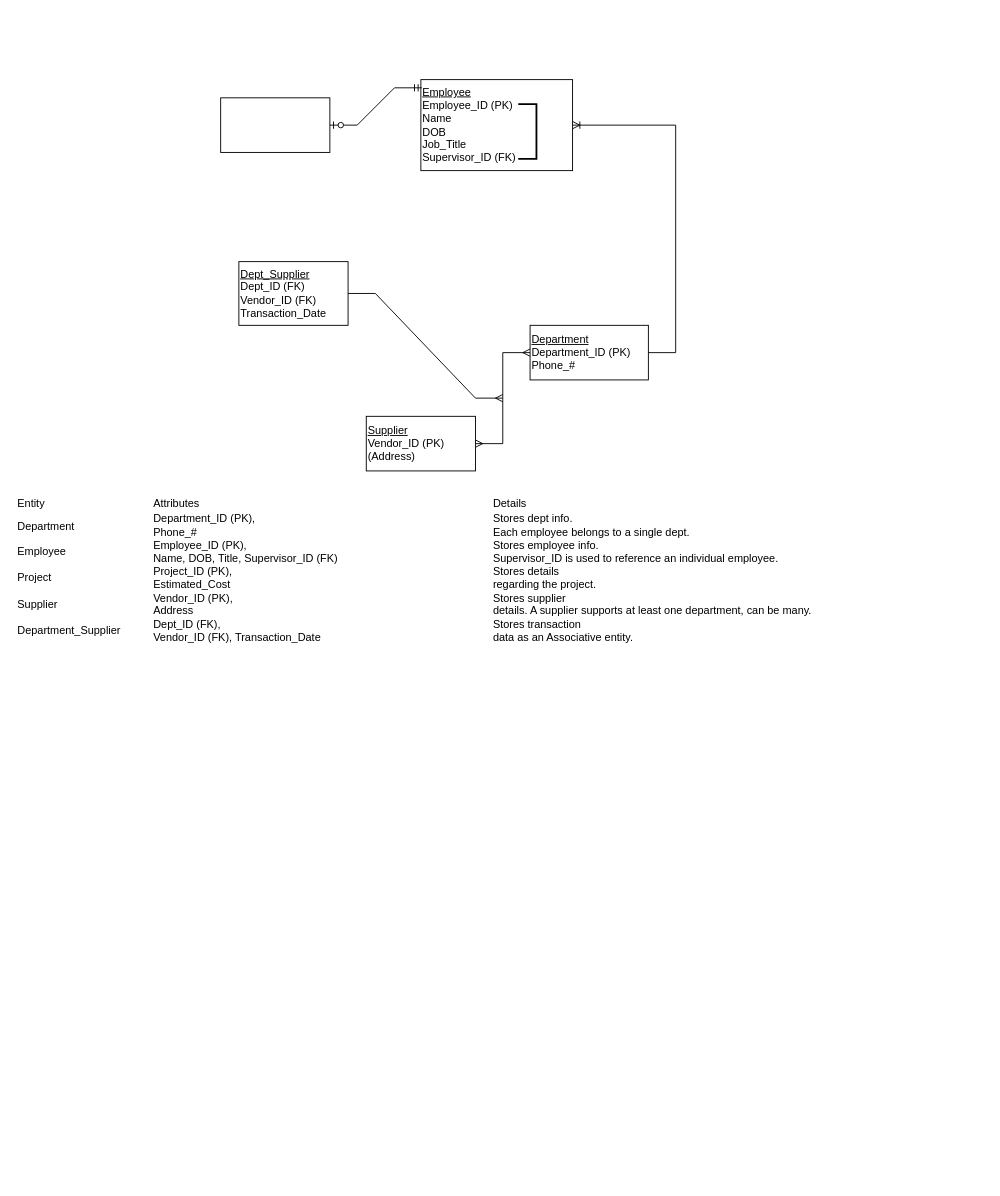
Some shapes in this 1000 by 1196 pixel diagram are drawn without their labels. Here are the shapes that lost their labels. From the top down, the centre of each, then its label:
At (275,124): "Project Project_ID (PK) Estimated_Cost".
At (527,131): "Unary".
